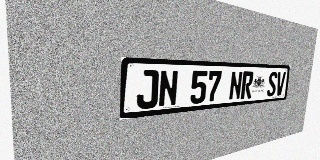5: (190, 70, 208, 104)
7: (206, 71, 222, 103)
J: (136, 70, 159, 110)
N: (158, 70, 179, 107), (228, 71, 243, 100)
R: (240, 71, 254, 99)
S: (266, 72, 278, 97)
V: (275, 72, 286, 96)
